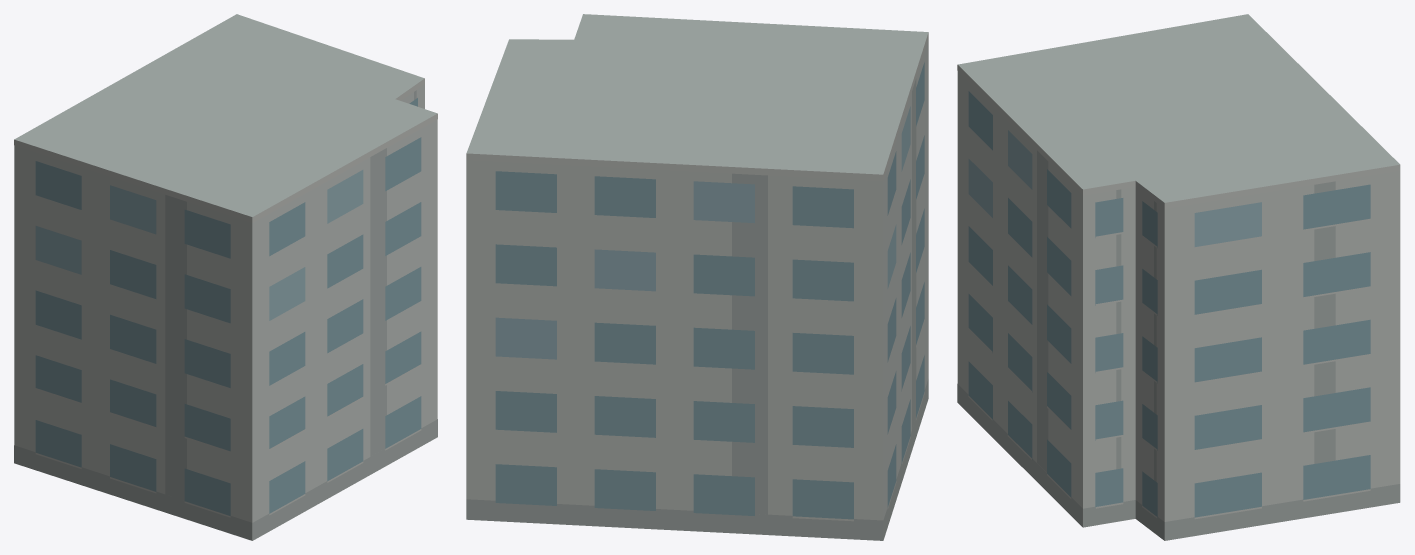
File: survey-upis-32852066.glb
3 renders of one model, left to right at view 1: azimuth 30°, elevation 25°; view 2: azimuth 150°, elevation 25°; view 3: azimuth 270°, elevation 25°, orthographic. The views are drawn at different scales.
Visible parts, largest first — view 1: survey-upis-32852066.tmp; view 2: survey-upis-32852066.tmp; view 3: survey-upis-32852066.tmp.
Boxes of the visible parts, x1,y1,x2,y2 form: survey-upis-32852066.tmp: (14,14,437,540); survey-upis-32852066.tmp: (466,14,928,540); survey-upis-32852066.tmp: (957,14,1400,540).
Bounding box in the file's own units: 16.01 × 13.35 × 15.86.
